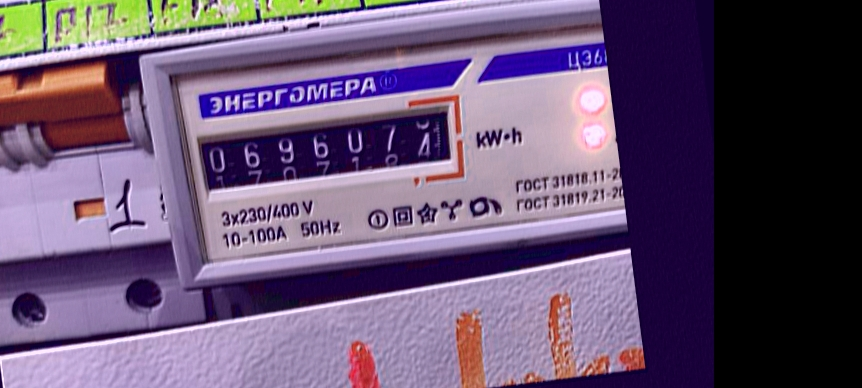0: (343, 124, 366, 156), (206, 144, 227, 174)
4: (414, 130, 433, 160)
6: (240, 138, 263, 169), (309, 130, 331, 161)
7: (379, 121, 400, 153)
9: (275, 135, 296, 165)
screen: (181, 87, 474, 210)
